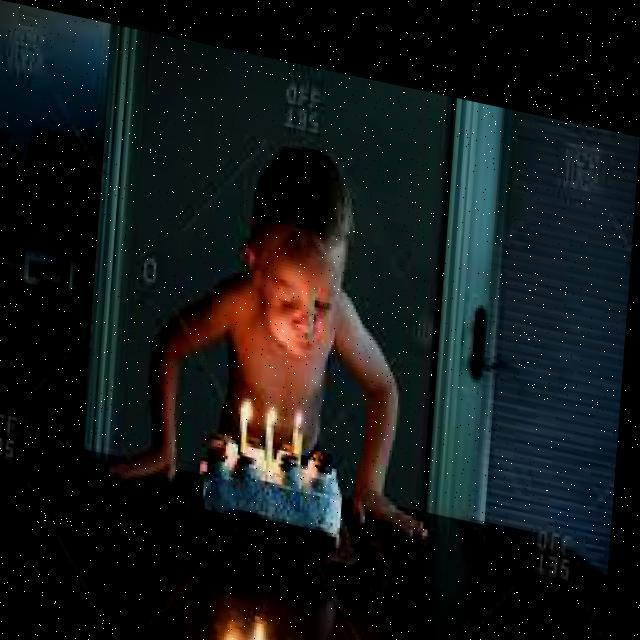Fire: (265, 382, 286, 422), (288, 382, 310, 413), (241, 382, 259, 408)
